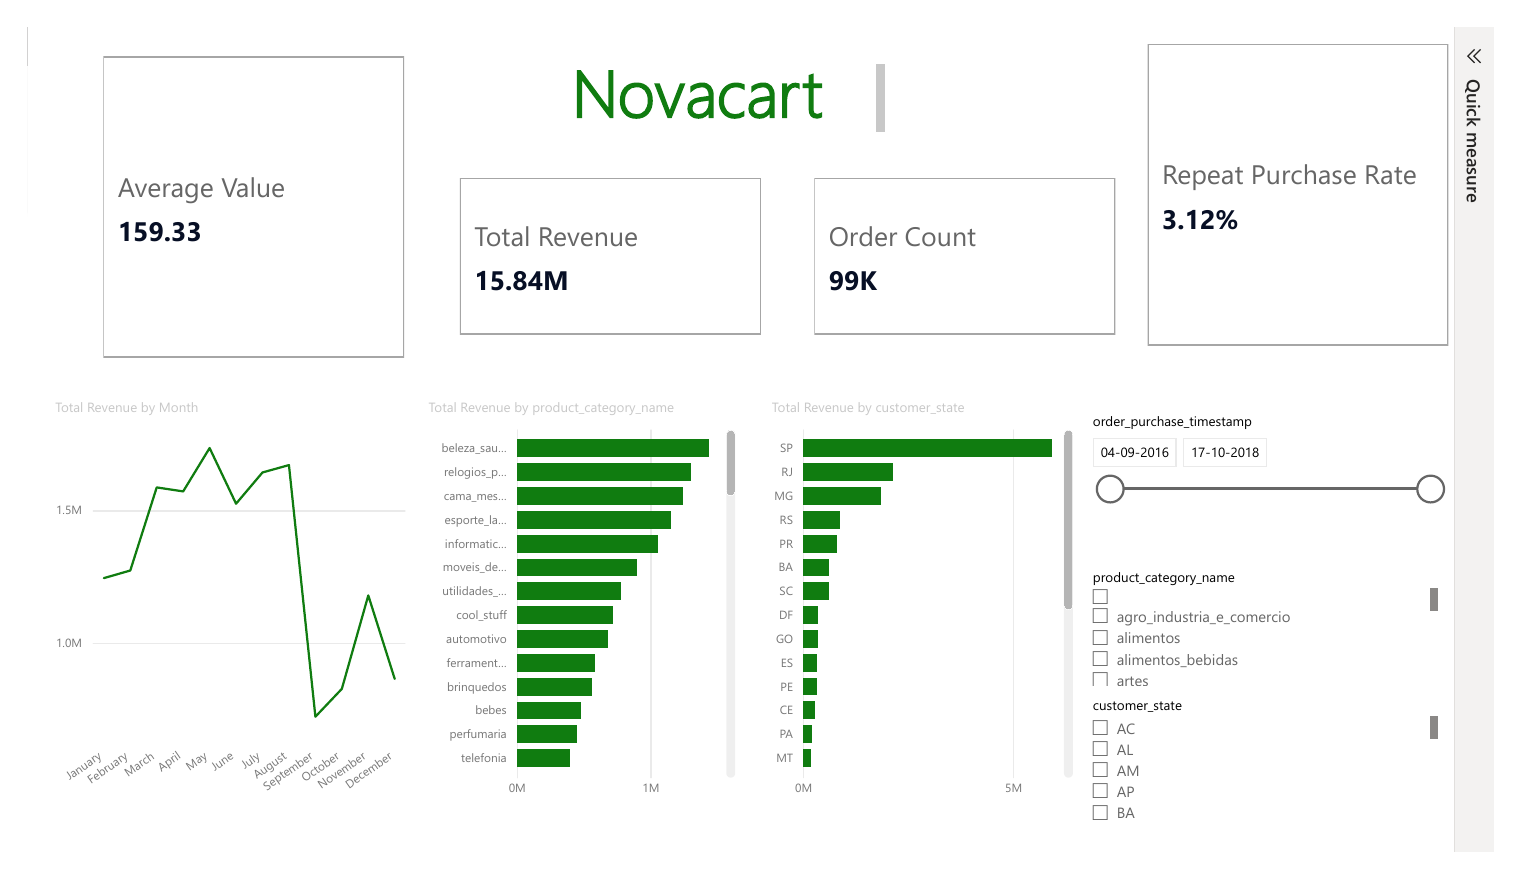

This screenshot's page, from the dashboard's own definition file:
{"tool":"powerbi","page":{"name":"Page 1","canvas":[1280,720],"ordinal":0},"visuals":[{"type":"cardVisual","fields":{"Data":["olist_orders_dataset.Average Value"]},"box":[63.1,11,280,280],"z":0},{"type":"cardVisual","fields":{"Data":["olist_orders_dataset.Repeat Purchase Rate"]},"box":[1000.3,0,280,280],"z":1000},{"type":"cardVisual","fields":{"Data":["olist_orders_dataset.Total Revenue"]},"box":[382.7,119.8,280,150],"z":2000},{"type":"cardVisual","fields":{"Data":["olist_orders_dataset.Order Count"]},"box":[700.7,119.8,280,150],"z":3000},{"type":"lineChart","fields":{"Y":["olist_orders_dataset.Total Revenue"],"Category":["olist_orders_dataset.order_purchase_timestamp.Variation.Date Hierarchy.Year","olist_orders_dataset.order_purchase_timestamp.Variation.Date Hierarchy.Quarter","olist_orders_dataset.order_purchase_timestamp.Variation.Date Hierarchy.Month","olist_orders_dataset.order_purchase_timestamp.Variation.Date Hierarchy.Day"]},"box":[19.6,321.6,324.1,366.8],"z":4000},{"type":"barChart","fields":{"Category":["olist_products_dataset.product_category_name"],"Y":["olist_orders_dataset.Total Revenue"]},"box":[354.6,321.6,284.9,368.1],"z":5000},{"type":"barChart","fields":{"Category":["olist_customers_dataset.customer_state"],"Y":["olist_orders_dataset.Total Revenue"]},"box":[662.8,321.6,280,368],"z":6000},{"type":"slicer","fields":{"Values":["olist_orders_dataset.order_purchase_timestamp"]},"box":[942.8,330.2,337.5,139.4],"z":7000},{"type":"slicer","fields":{"Values":["olist_products_dataset.product_category_name"]},"box":[942.8,469.6,327.7,114.9],"z":8000},{"type":"slicer","fields":{"Values":["olist_customers_dataset.customer_state"]},"box":[942.8,584.5,327.7,121.1],"z":9000},{"type":"textbox","box":[484.2,11,289.8,79.5],"z":9501}]}

Visuals, with their boxes on the page's 1280x720 design canvas (x1, y1, x2, y2). These are canvas units, not pixel positions in the 1522x880 screenshot, which may show the page scaled, cropped or inside an application window:
cardVisual - olist_orders_dataset.Average Value: (63,11,343,291)
cardVisual - olist_orders_dataset.Repeat Purchase Rate: (1000,0,1280,280)
cardVisual - olist_orders_dataset.Total Revenue: (383,120,663,270)
cardVisual - olist_orders_dataset.Order Count: (701,120,981,270)
lineChart - olist_orders_dataset.Total Revenue x olist_orders_dataset.order_purchase_timestamp.Variation.Date Hierarchy.Year: (20,322,344,688)
barChart - olist_products_dataset.product_category_name x olist_orders_dataset.Total Revenue: (355,322,640,690)
barChart - olist_customers_dataset.customer_state x olist_orders_dataset.Total Revenue: (663,322,943,690)
slicer - olist_orders_dataset.order_purchase_timestamp: (943,330,1280,470)
slicer - olist_products_dataset.product_category_name: (943,470,1270,584)
slicer - olist_customers_dataset.customer_state: (943,584,1270,706)
textbox: (484,11,774,90)
